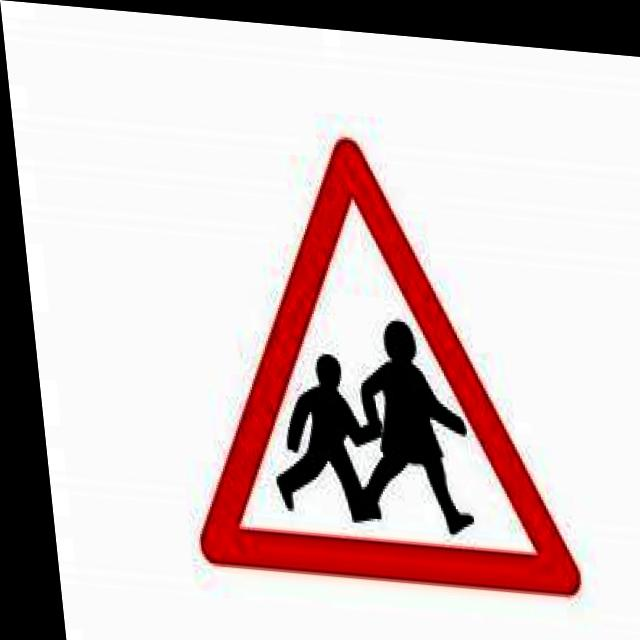SCHOOL_AHEAD: (146, 98, 572, 596)
